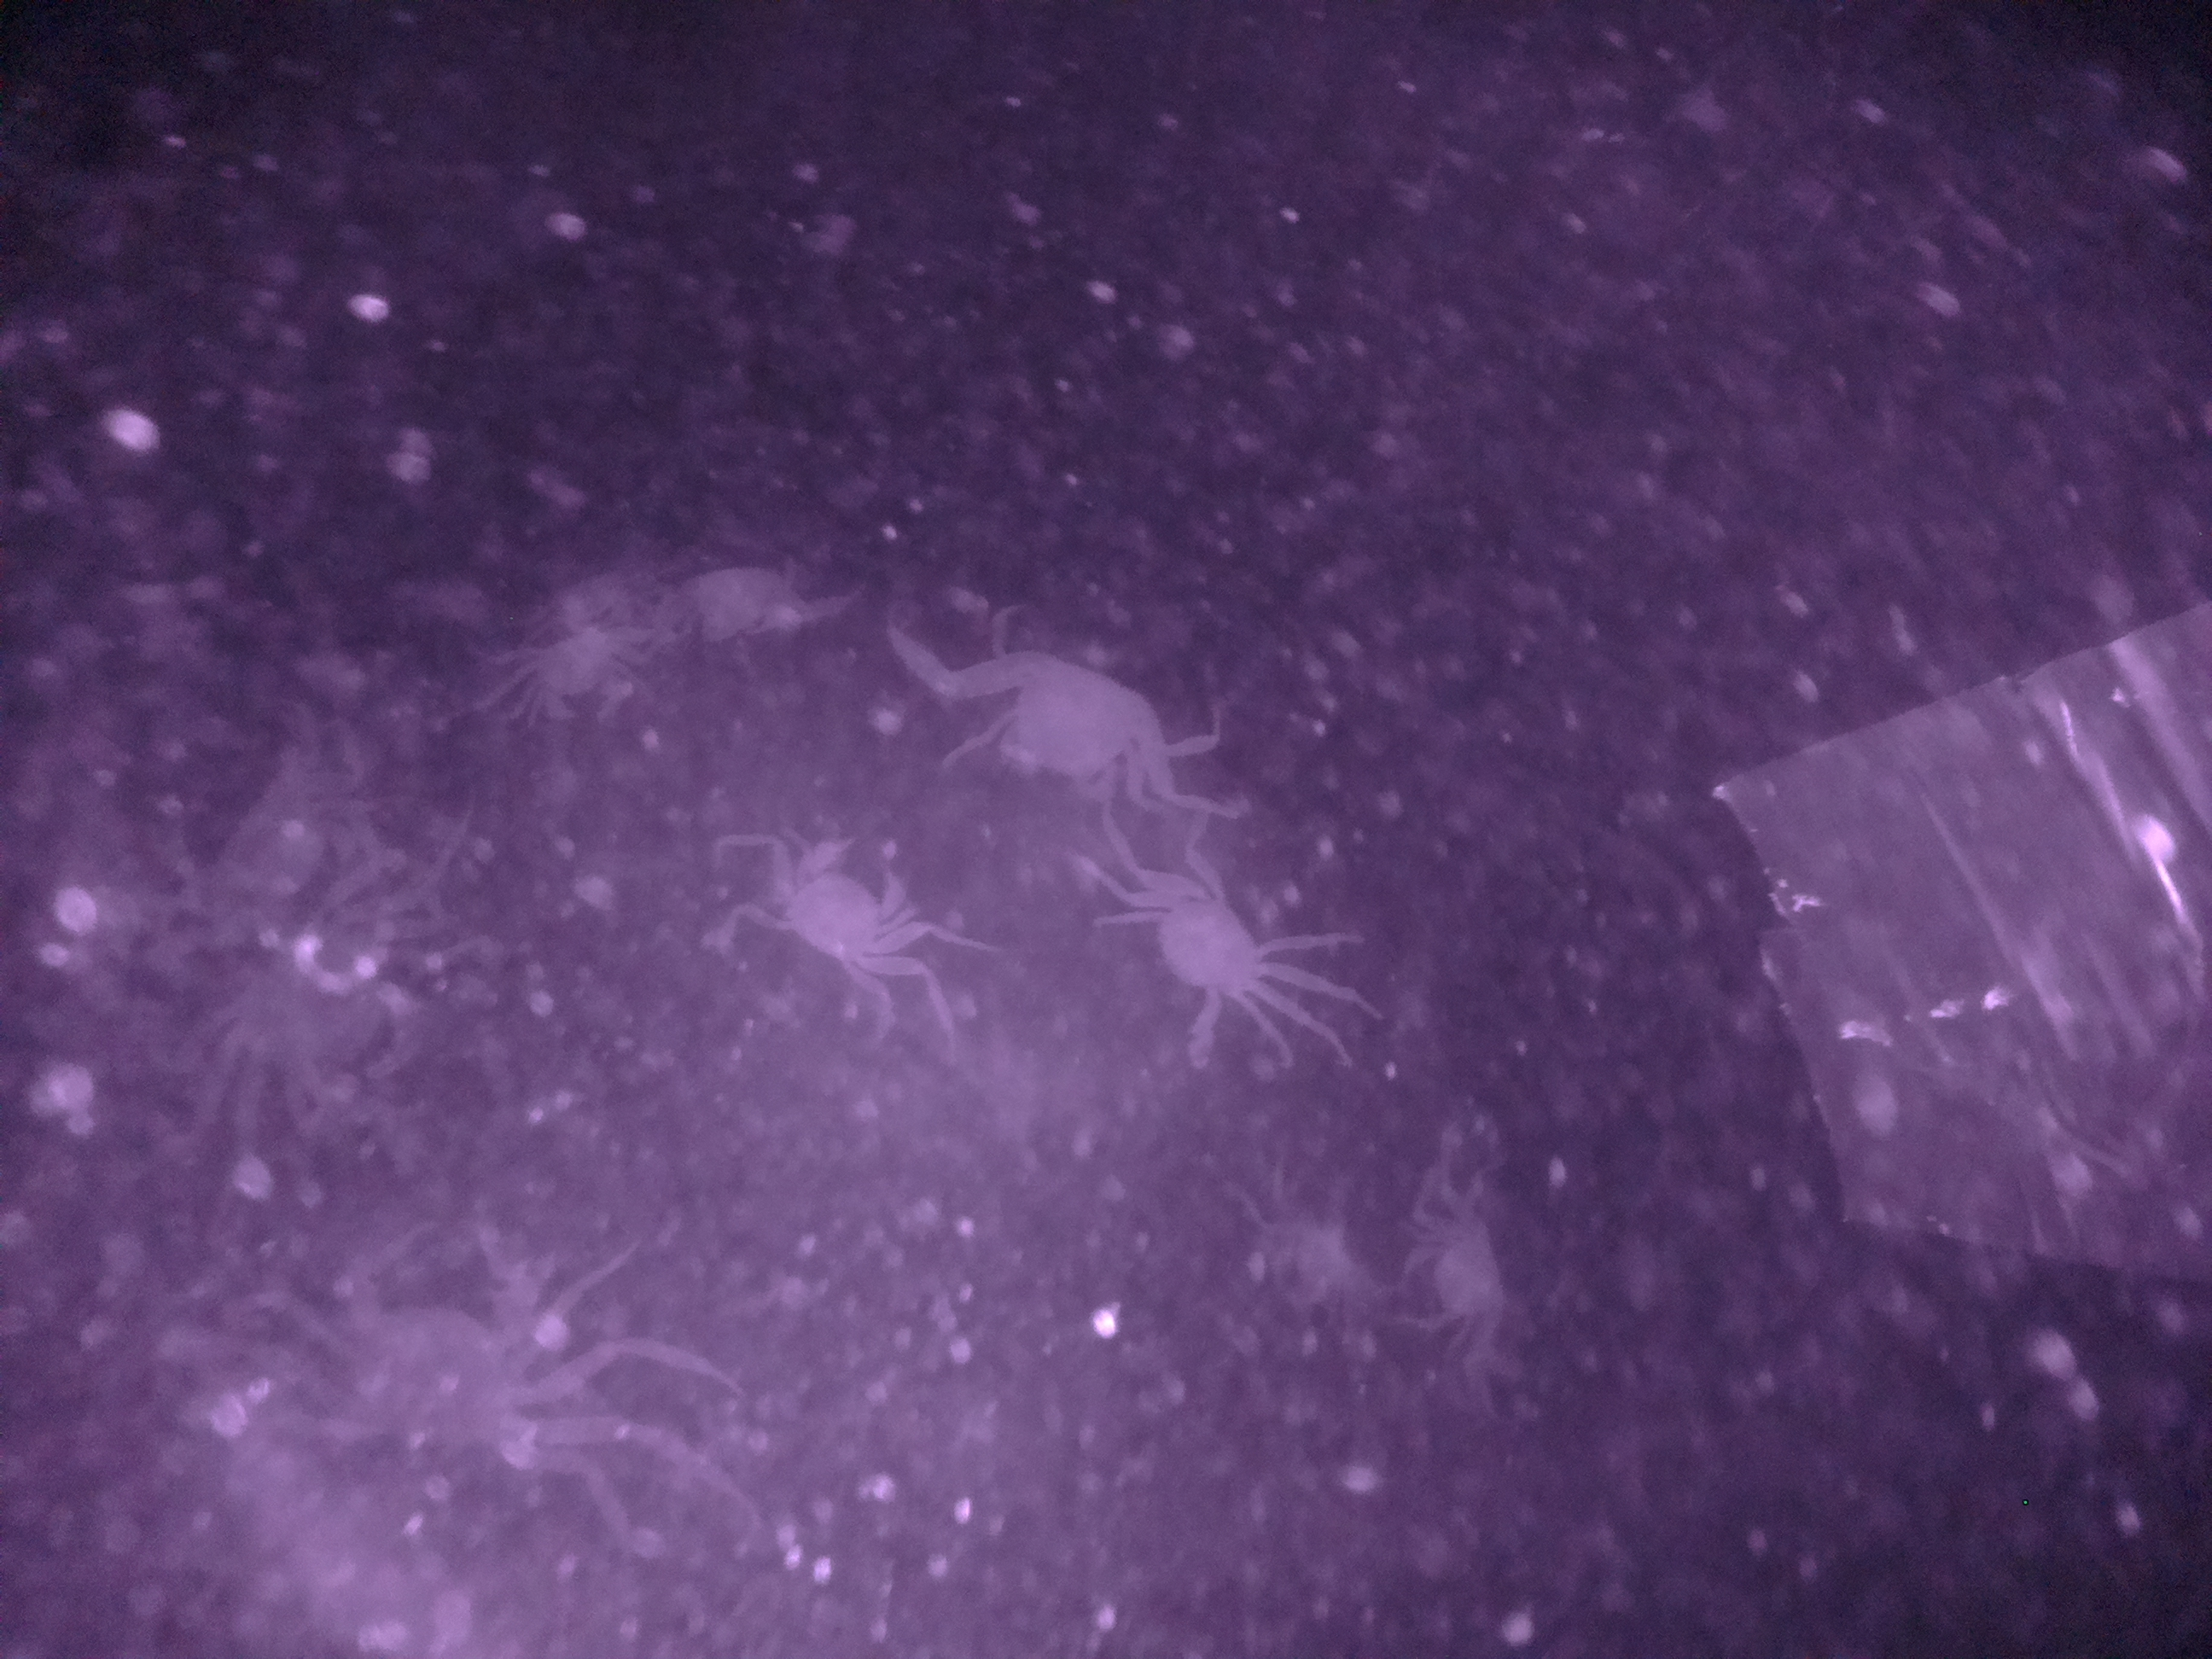Crab: (948, 627, 1216, 817), (1136, 852, 1294, 1060), (758, 838, 921, 974)
